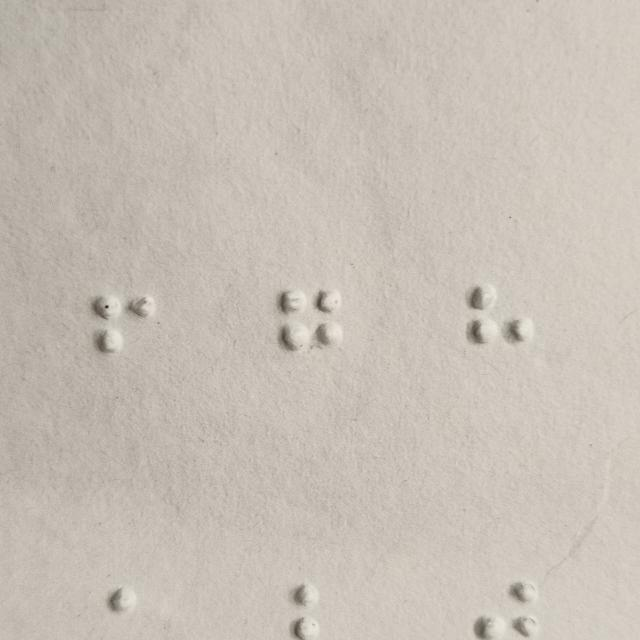one_cell_alphabet_ganoon: (274, 286, 345, 390)
one_cell_alphabet_hindi: (465, 282, 536, 386)
one_cell_alphabet_paano: (89, 289, 160, 393)
